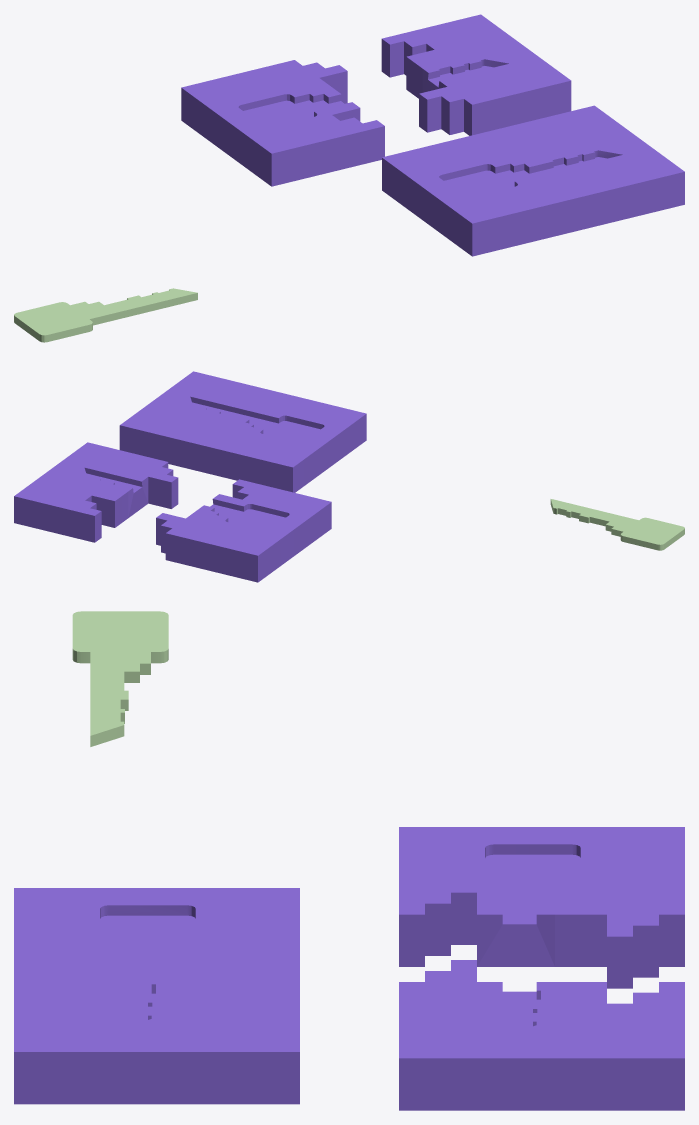
The model's file is Key.fbx.
The picture shows the model from 3 angles, top to bottom: view 1: azimuth 30°, elevation 25°; view 2: azimuth 150°, elevation 25°; view 3: azimuth 270°, elevation 25°; orthographic projection. The views are drawn at different scales.
Parts seen in each view (by area): view 1: WholeKeyMold, KeyMold1, KeyMold2, Key; view 2: WholeKeyMold, KeyMold1, KeyMold2, Key; view 3: WholeKeyMold, KeyMold1, KeyMold2, Key.
Boxes of the visible parts, left/top/right/bottom form: WholeKeyMold: left=382, top=105, right=684, bottom=256; KeyMold1: left=181, top=60, right=384, bottom=186; KeyMold2: left=381, top=14, right=571, bottom=135; Key: left=14, top=288, right=197, bottom=342; WholeKeyMold: left=119, top=371, right=366, bottom=492; KeyMold1: left=156, top=479, right=331, bottom=582; KeyMold2: left=14, top=442, right=178, bottom=542; Key: left=550, top=499, right=684, bottom=550; WholeKeyMold: left=14, top=888, right=299, bottom=1104; KeyMold1: left=399, top=827, right=684, bottom=988; KeyMold2: left=399, top=960, right=684, bottom=1110; Key: left=72, top=611, right=168, bottom=746.
Bounding box in the file's own units: 0.8088 × 0.0403 × 0.4701.
